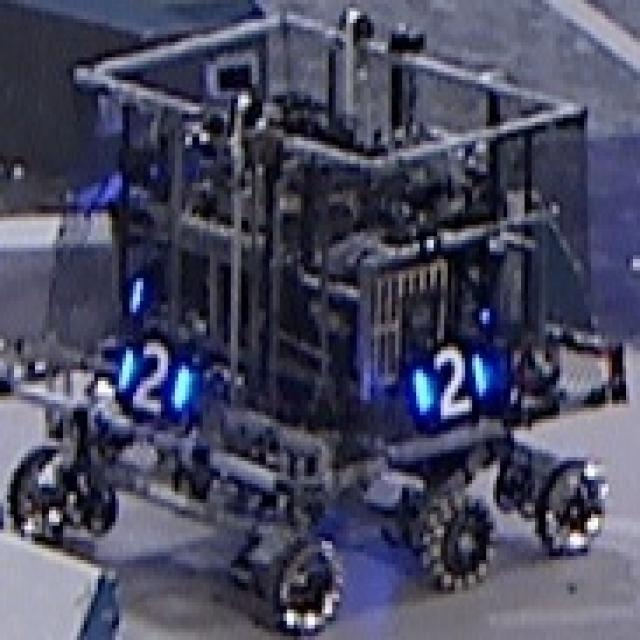B2: (112, 335, 196, 415), (409, 343, 490, 419)
